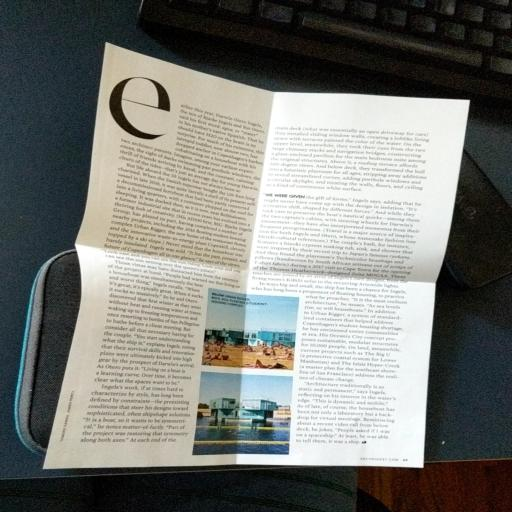paper: (12, 15, 512, 480)
